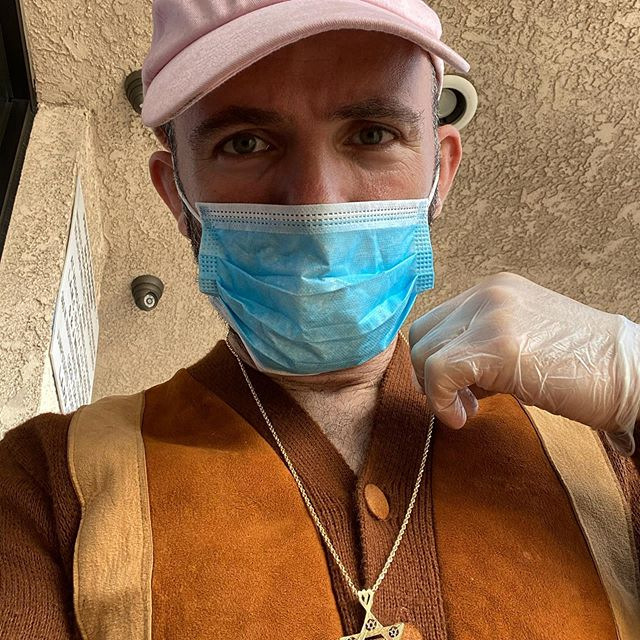surgical: (164, 175, 456, 382)
